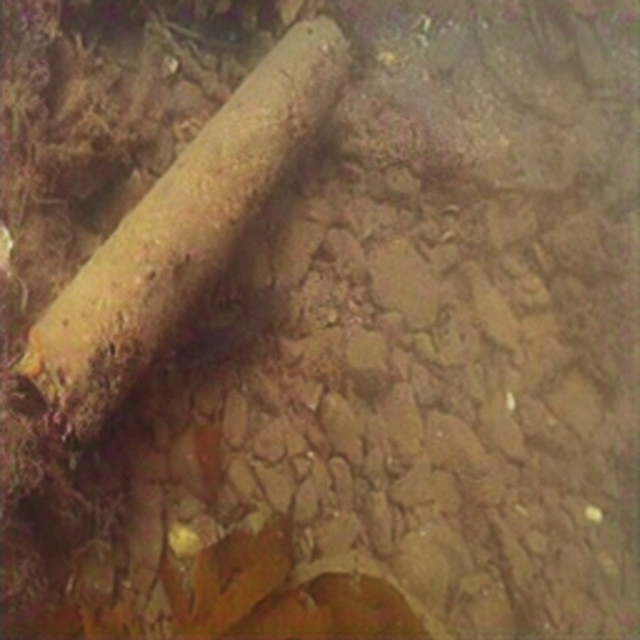mine: (10, 13, 351, 477)
